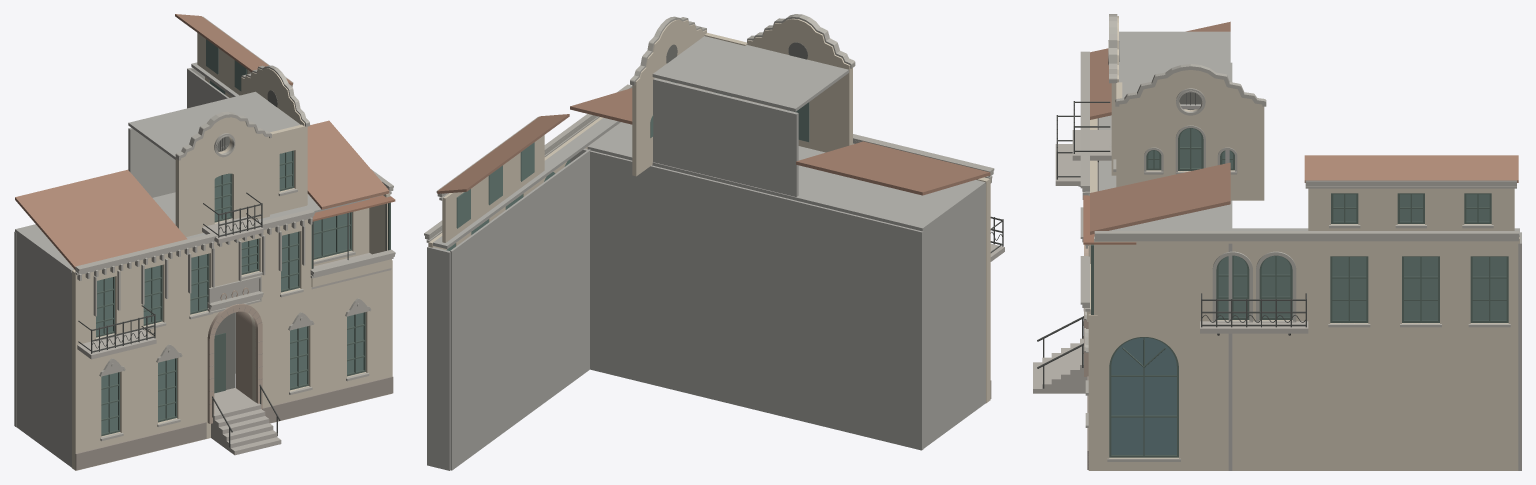
Rendered from jingan-wangdetang-augustinian-office-web.glb.
3 views of the same model, side by side, from view 1: azimuth 30°, elevation 25°; view 2: azimuth 150°, elevation 25°; view 3: azimuth 270°, elevation 25° (orthographic). The views are drawn at different scales.
Parts seen in each view (by area): view 1: 望德堂院内门廊与曲线山墙; view 2: 望德堂院内门廊与曲线山墙; view 3: 望德堂院内门廊与曲线山墙.
Boxes of the visible parts, bbox=[...] form: 望德堂院内门廊与曲线山墙: bbox=[14, 14, 395, 470]; 望德堂院内门廊与曲线山墙: bbox=[424, 14, 1004, 470]; 望德堂院内门廊与曲线山墙: bbox=[1033, 14, 1521, 470].
Bounding box in the file's own units: 13.04 × 11.77 × 14.33.
